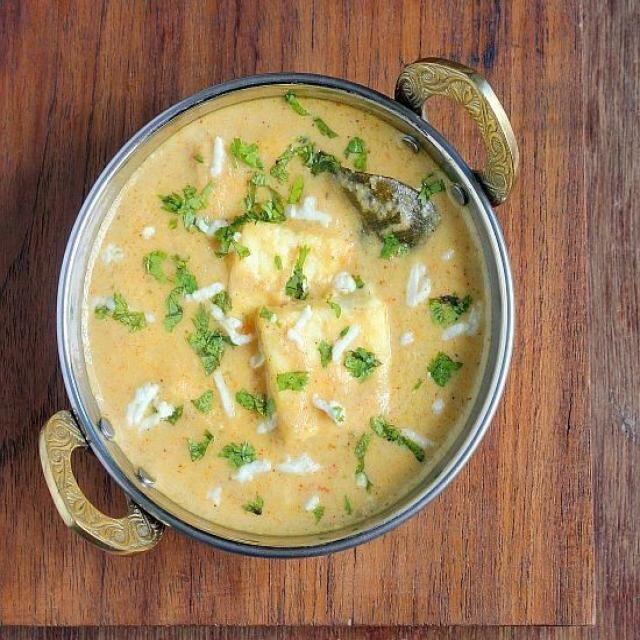ShahiPaneer: (91, 91, 486, 543)
